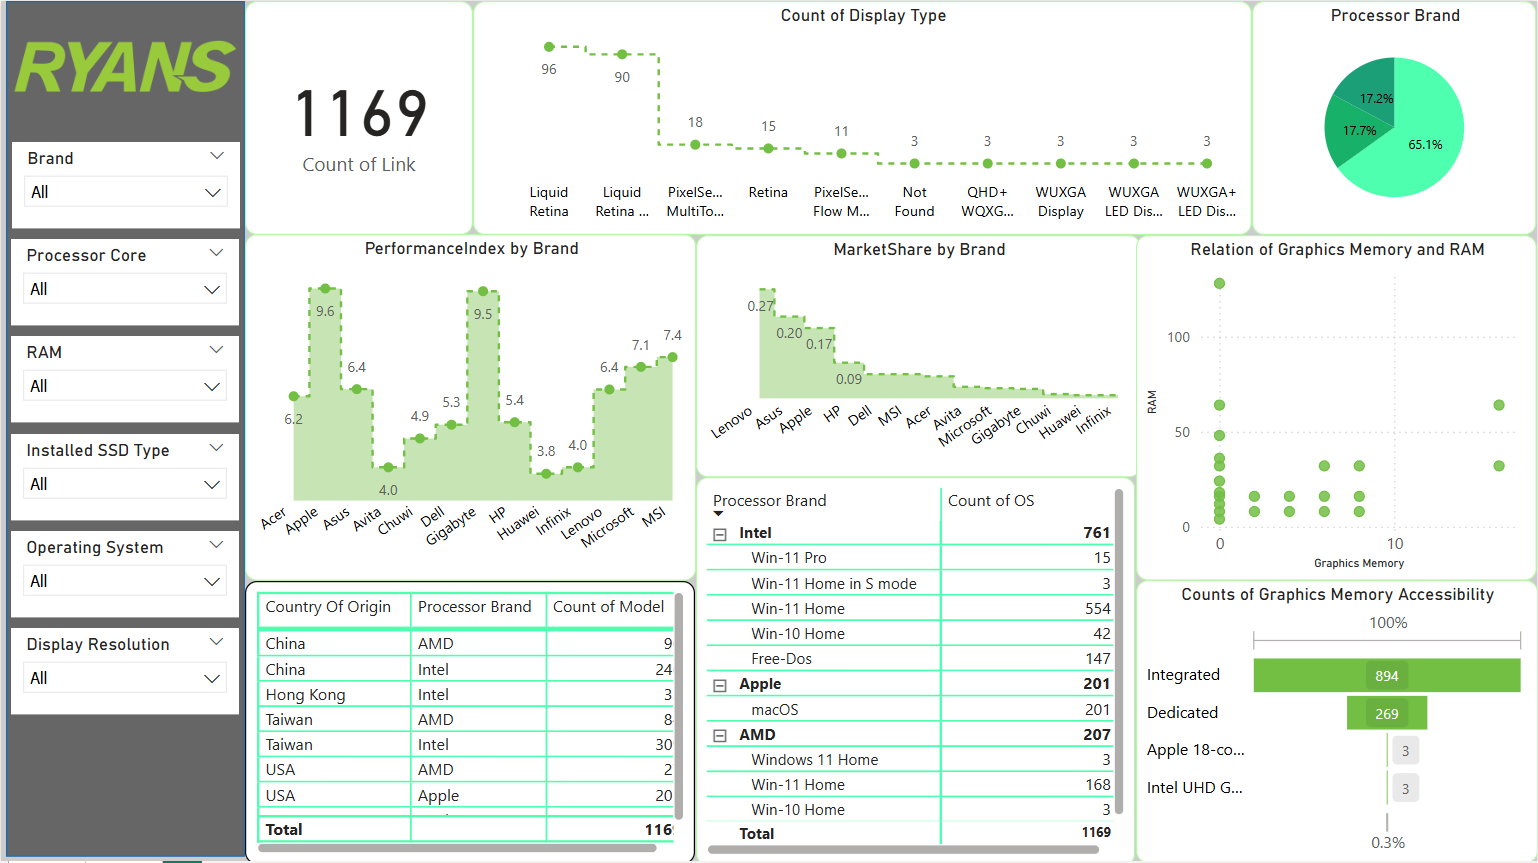

The page's visual inventory and layout, read from the dashboard file:
{"tool":"powerbi","page":{"name":"Page 2","canvas":[1280,720],"ordinal":1},"visuals":[{"type":"shape","box":[4.2,0,199.2,713.3],"z":0},{"type":"slicer","fields":{"Values":["final_ryans_inventory.Brand"]},"box":[9.1,117.3,190,71.8],"z":1000},{"type":"slicer","fields":{"Values":["final_ryans_inventory.Installed SSD Type"]},"box":[8.2,360.5,190.3,71.9],"z":2000},{"type":"slicer","fields":{"Values":["final_ryans_inventory.Processor Core"]},"box":[8.2,198.5,190.3,71.9],"z":3000},{"type":"slicer","fields":{"Values":["final_ryans_inventory.RAM"]},"box":[8.2,279.5,190.3,71.9],"z":4000},{"type":"slicer","fields":{"Values":["final_ryans_inventory.Display Resolution"]},"box":[8.2,522.6,190.3,71.9],"z":5000},{"type":"slicer","fields":{"Values":["final_ryans_inventory.Operating System"]},"box":[8.2,441.5,190.3,71.9],"z":6000},{"type":"image","box":[4.5,0,199.1,108.2],"z":7000},{"type":"areaChart","fields":{"Category":["final_ryans_inventory.Brand"],"Y":["final_ryans_inventory.PerformanceIndex"]},"box":[198.2,198.2,375.7,289],"z":8000},{"type":"stackedAreaChart","fields":{"Category":["final_ryans_inventory.Brand"],"Y":["final_ryans_inventory.MarketShare"]},"box":[579,194.8,370.5,202.1],"z":9000},{"type":"scatterChart","title":"Relation of Graphics Memory and RAM","fields":{"X":["final_ryans_inventory.Num Graphic Memory"],"Y":["final_ryans_inventory.Num RAM"]},"box":[945.9,194.8,334.1,287.7],"z":10000},{"type":"funnel","title":"Counts of Graphics Memory Accessibility","fields":{"Category":["final_ryans_inventory.Graphics Memory Accessibility"],"Y":["final_ryans_inventory.Graphics Memory Accessibility"]},"box":[945.5,482.7,334.5,236.4],"z":11000},{"type":"pieChart","title":"Processor Brand","fields":{"Category":["final_ryans_inventory.Processor Brand"],"Y":["final_ryans_inventory.Processor Brand"]},"box":[1042.7,0,237.3,194.5],"z":12000},{"type":"tableEx","fields":{"Values":["final_ryans_inventory.Country Of Origin","final_ryans_inventory.Processor Brand","final_ryans_inventory.Model"]},"box":[203.6,483.6,375.5,236.4],"z":13000},{"type":"pivotTable","fields":{"Rows":["final_ryans_inventory.Processor Brand","final_ryans_inventory.Operating System"],"Values":["final_ryans_inventory.Operating System"]},"box":[579.1,396.4,366.4,323.6],"z":14000},{"type":"card","fields":{"Values":["final_ryans_inventory.Link"]},"box":[203.6,0,190,194.5],"z":15000},{"type":"lineChart","fields":{"Category":["final_ryans_inventory.Display Type"],"Y":["final_ryans_inventory.Display Type"]},"box":[393.6,0,649.1,194.5],"z":16000}]}

Visuals, with their boxes in screenshot pixels (x1, y1, x2, y2), scaled from the page's 1280x720 canvas onto the 1538x863 screenshot:
shape: crop(5, 0, 244, 855)
slicer - final_ryans_inventory.Brand: crop(11, 141, 239, 227)
slicer - final_ryans_inventory.Installed SSD Type: crop(10, 432, 239, 518)
slicer - final_ryans_inventory.Processor Core: crop(10, 238, 239, 324)
slicer - final_ryans_inventory.RAM: crop(10, 335, 239, 421)
slicer - final_ryans_inventory.Display Resolution: crop(10, 626, 239, 713)
slicer - final_ryans_inventory.Operating System: crop(10, 529, 239, 615)
image: crop(5, 0, 245, 130)
areaChart - final_ryans_inventory.Brand x final_ryans_inventory.PerformanceIndex: crop(238, 238, 690, 584)
stackedAreaChart - final_ryans_inventory.Brand x final_ryans_inventory.MarketShare: crop(696, 233, 1141, 476)
"Relation of Graphics Memory and RAM" scatterChart: crop(1137, 233, 1537, 578)
"Counts of Graphics Memory Accessibility" funnel: crop(1136, 579, 1537, 862)
"Processor Brand" pieChart: crop(1253, 0, 1537, 233)
tableEx - final_ryans_inventory.Country Of Origin x final_ryans_inventory.Processor Brand: crop(245, 580, 696, 862)
pivotTable - final_ryans_inventory.Processor Brand x final_ryans_inventory.Operating System: crop(696, 475, 1136, 862)
card - final_ryans_inventory.Link: crop(245, 0, 473, 233)
lineChart - final_ryans_inventory.Display Type x final_ryans_inventory.Display Type: crop(473, 0, 1253, 233)
